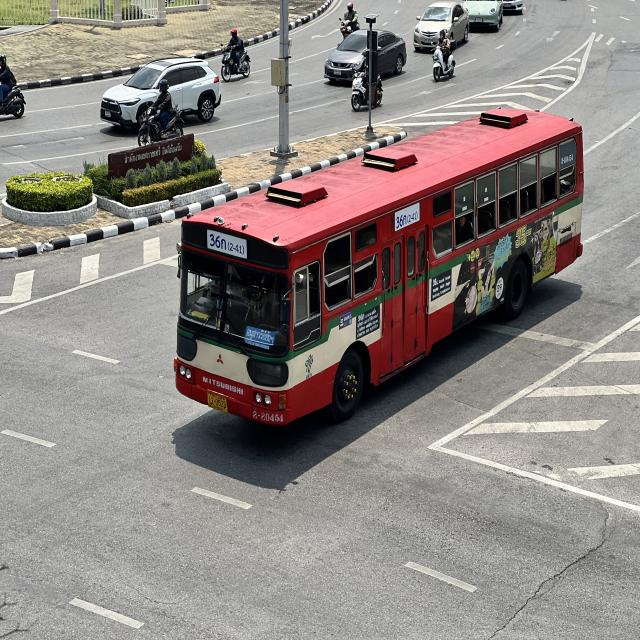BMTA-bus: (172, 107, 586, 430)
Bus-Line-Number: (203, 228, 250, 262)
Destination-Sign-Normal: (241, 322, 279, 354)
